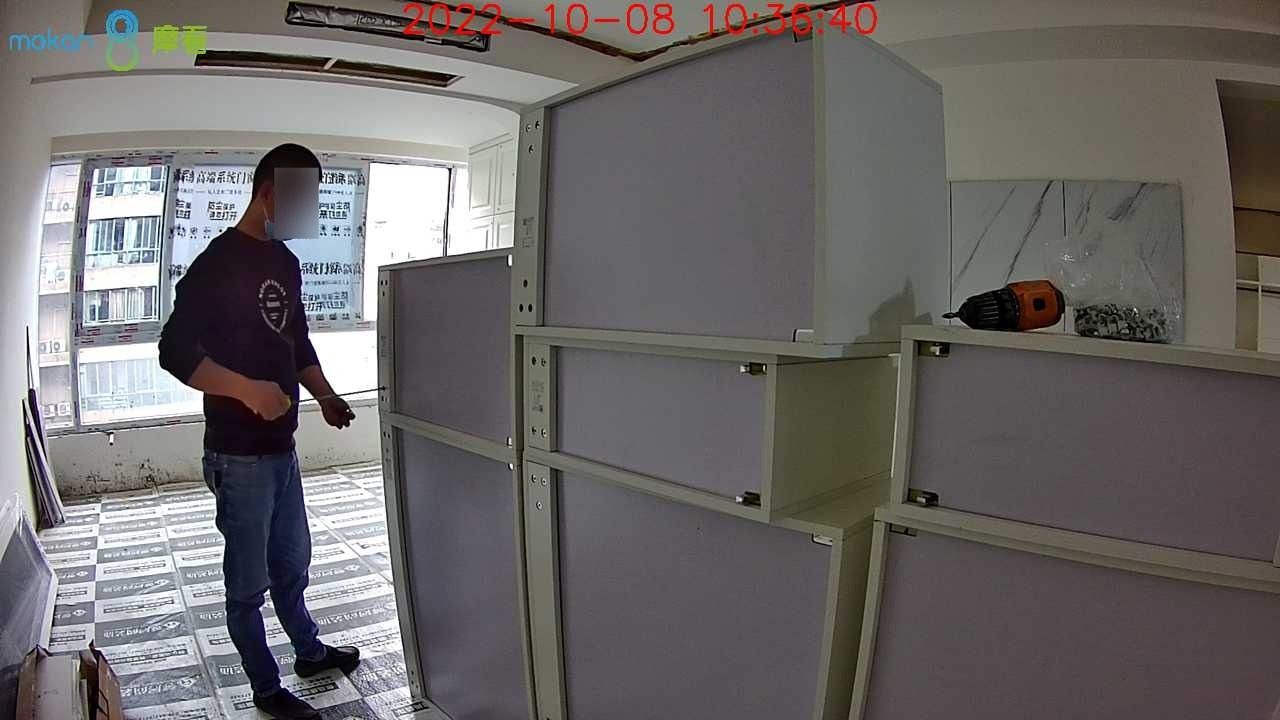people: (158, 142, 354, 720)
window: (45, 150, 463, 410)
